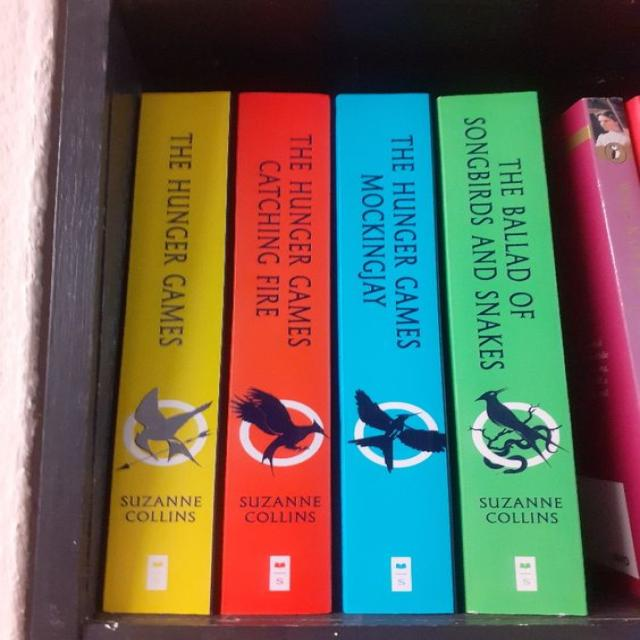book: (437, 92, 587, 614), (103, 92, 229, 614), (335, 94, 452, 613), (219, 93, 330, 614)
